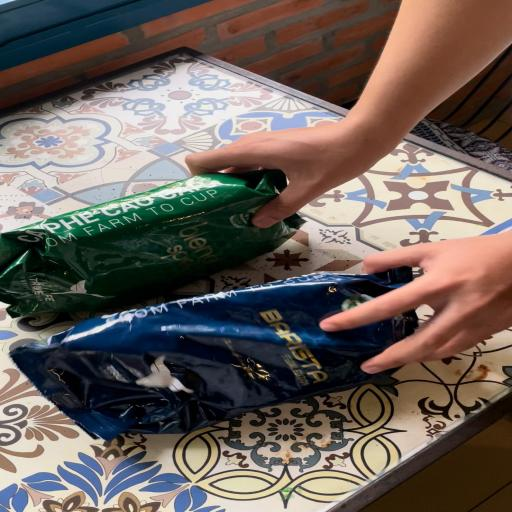cafe_hat: (9, 267, 417, 440)
cafe_xay: (0, 170, 303, 317)
